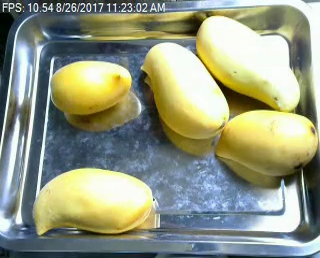Mango: (196, 15, 300, 112), (34, 168, 152, 240), (144, 41, 227, 140), (216, 109, 317, 175), (50, 60, 130, 114)
